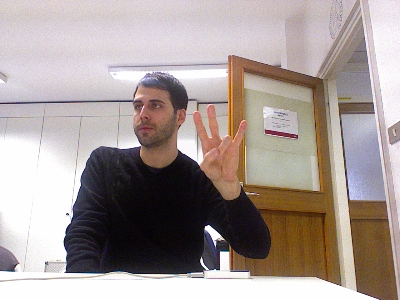观音: (192, 103, 247, 186)
